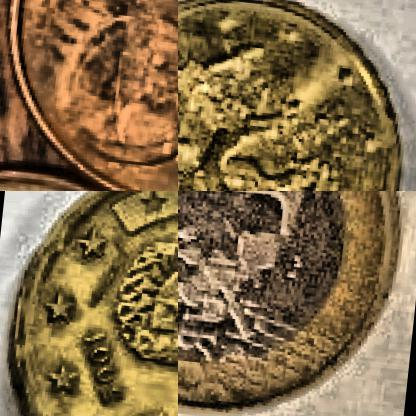coin: (178, 191, 415, 415), (178, 0, 415, 190), (0, 191, 177, 415), (0, 0, 177, 190)
